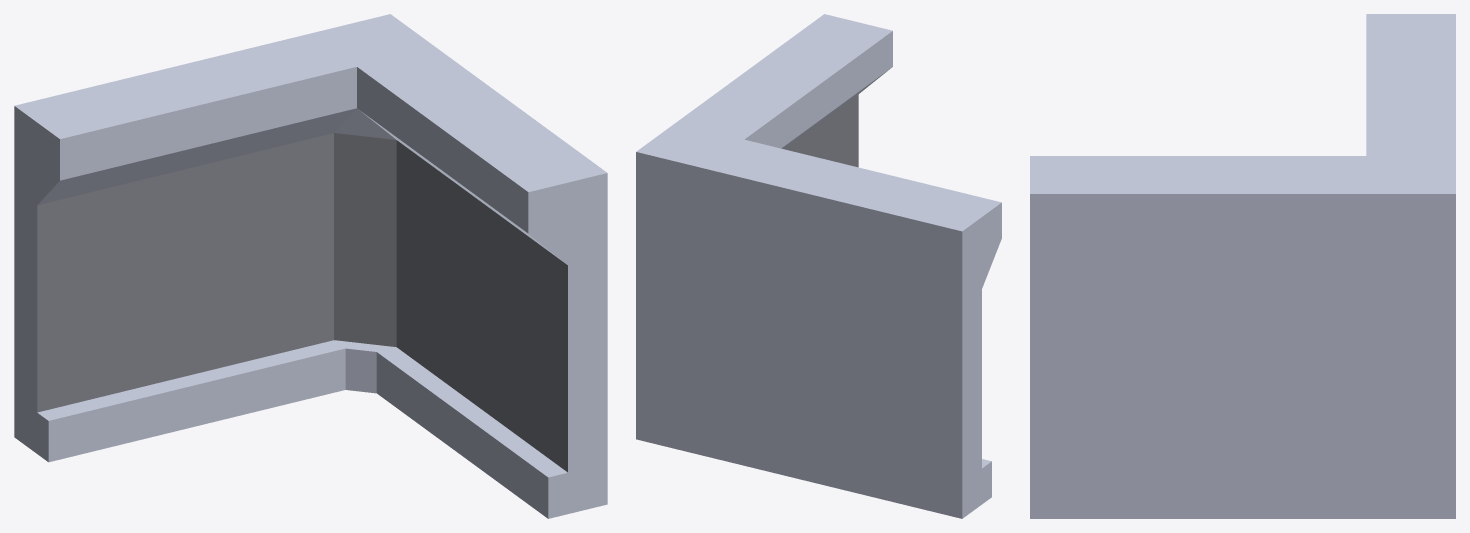
The picture shows the model from 3 angles, left to right: view 1: azimuth 30°, elevation 25°; view 2: azimuth 150°, elevation 25°; view 3: azimuth 270°, elevation 25°; orthographic projection. The views are drawn at different scales.
Visible parts, largest first — view 1: object_003; view 2: object_003; view 3: object_003.
Part boxes in pixels (x1,y1,x2,y2): object_003: (14, 14, 607, 518); object_003: (636, 14, 1001, 518); object_003: (1030, 14, 1455, 518).
Size of the model in its own units: 11.88 by 10 by 11.88.
